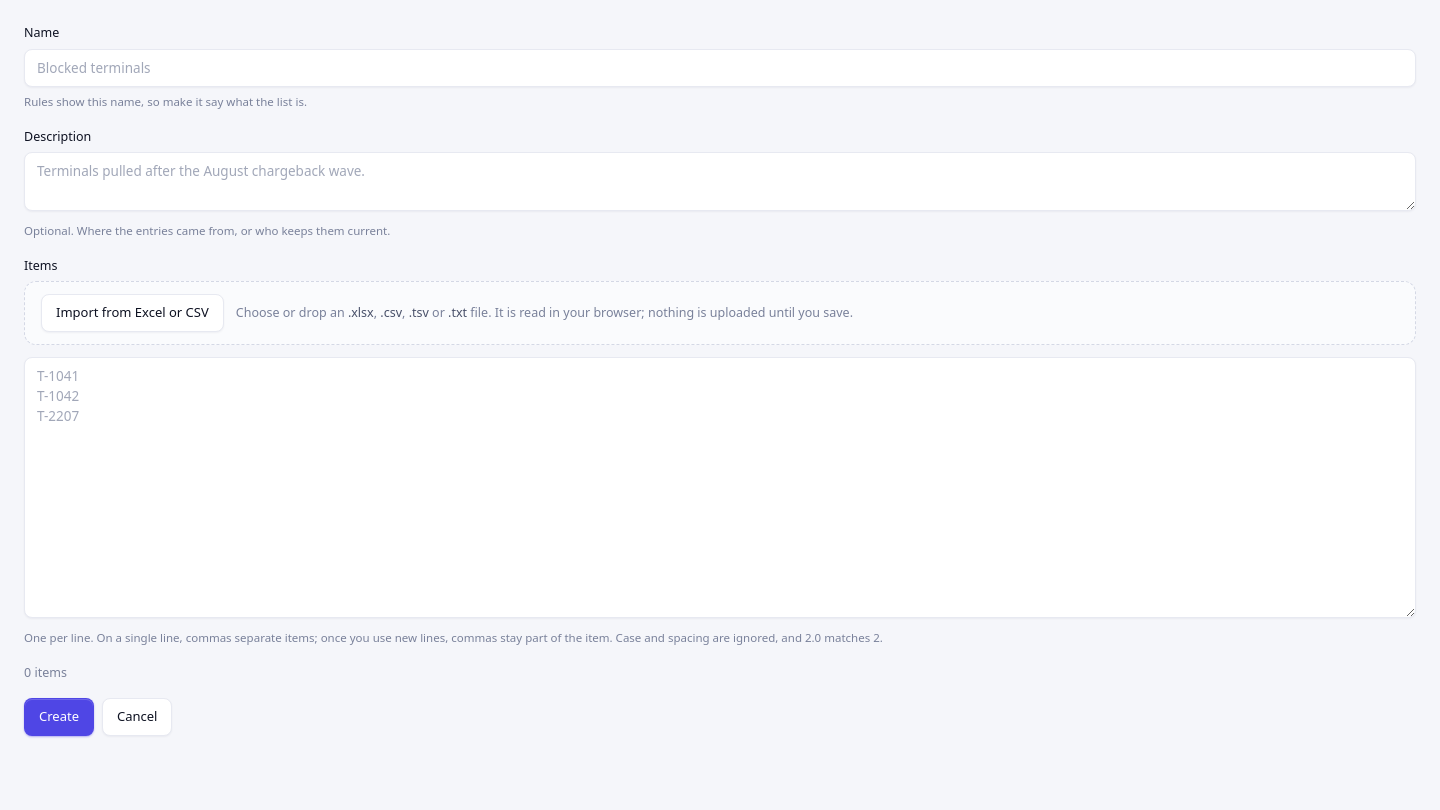
it: the list form › refuses to submit without a name or items, and says which
The width and height of the screenshot is (1440, 810).
Click the button "Create" at (59, 717), box x1=24 y1=698 x2=94 y2=736
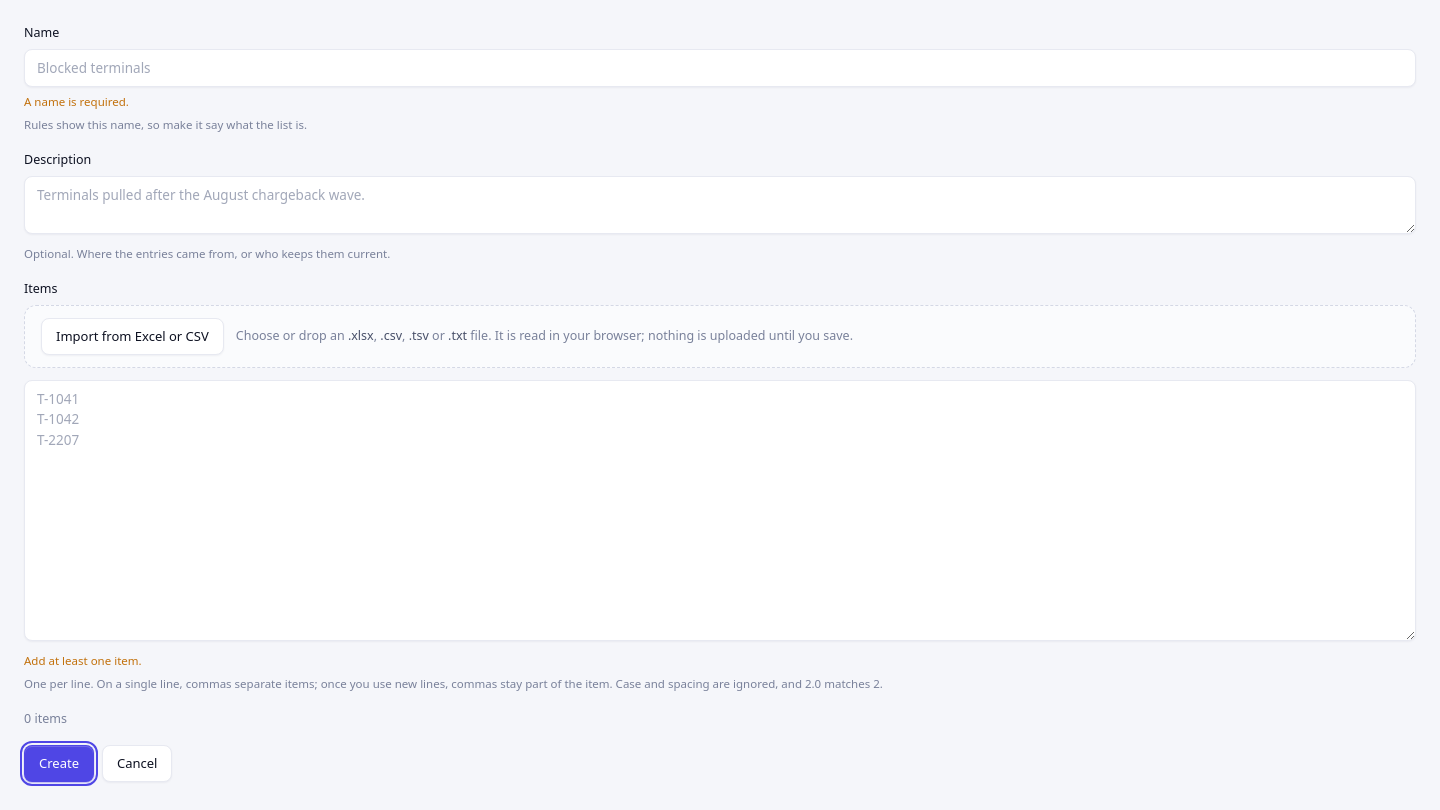
Now the text "A name is required." is shown, box x1=24 y1=94 x2=129 y2=109
Now the text "Add at least one item." is shown, box x1=24 y1=653 x2=142 y2=668
